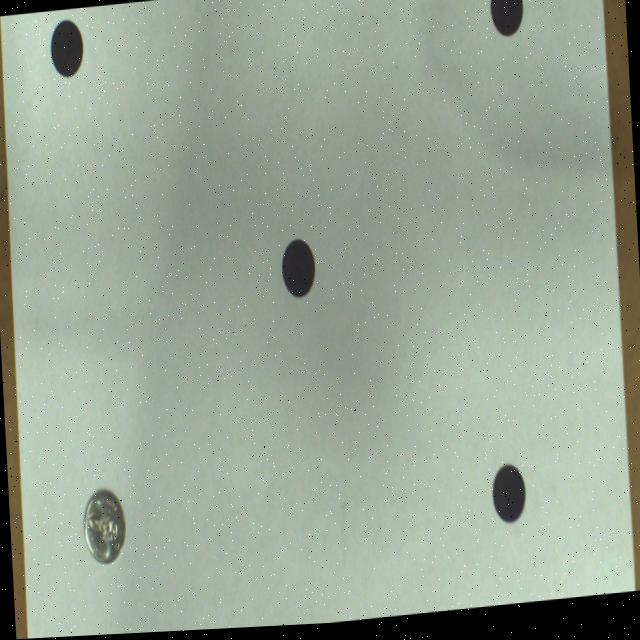space: (50, 20, 84, 78), (283, 244, 315, 299), (494, 472, 525, 527), (490, 0, 524, 42)
tail1bath: (84, 490, 126, 565)
